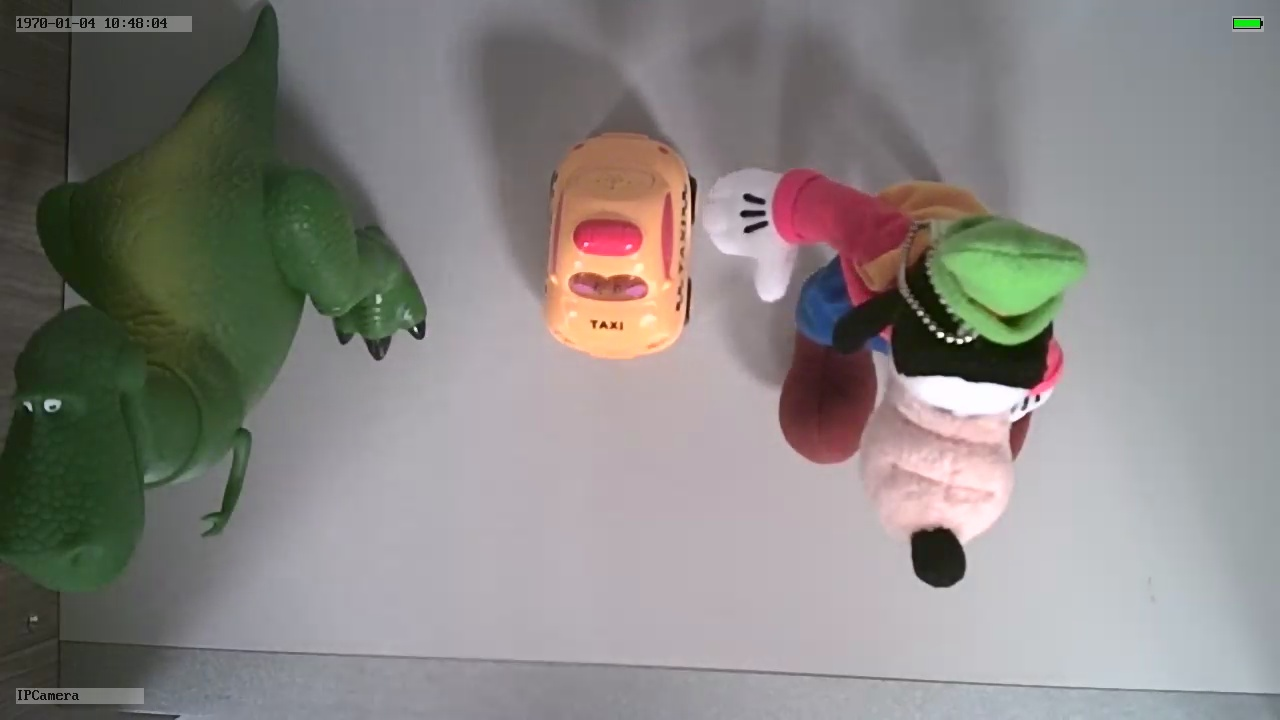car: (545, 126, 698, 364)
goofy: (701, 164, 1097, 596)
rex: (1, 91, 426, 596)
